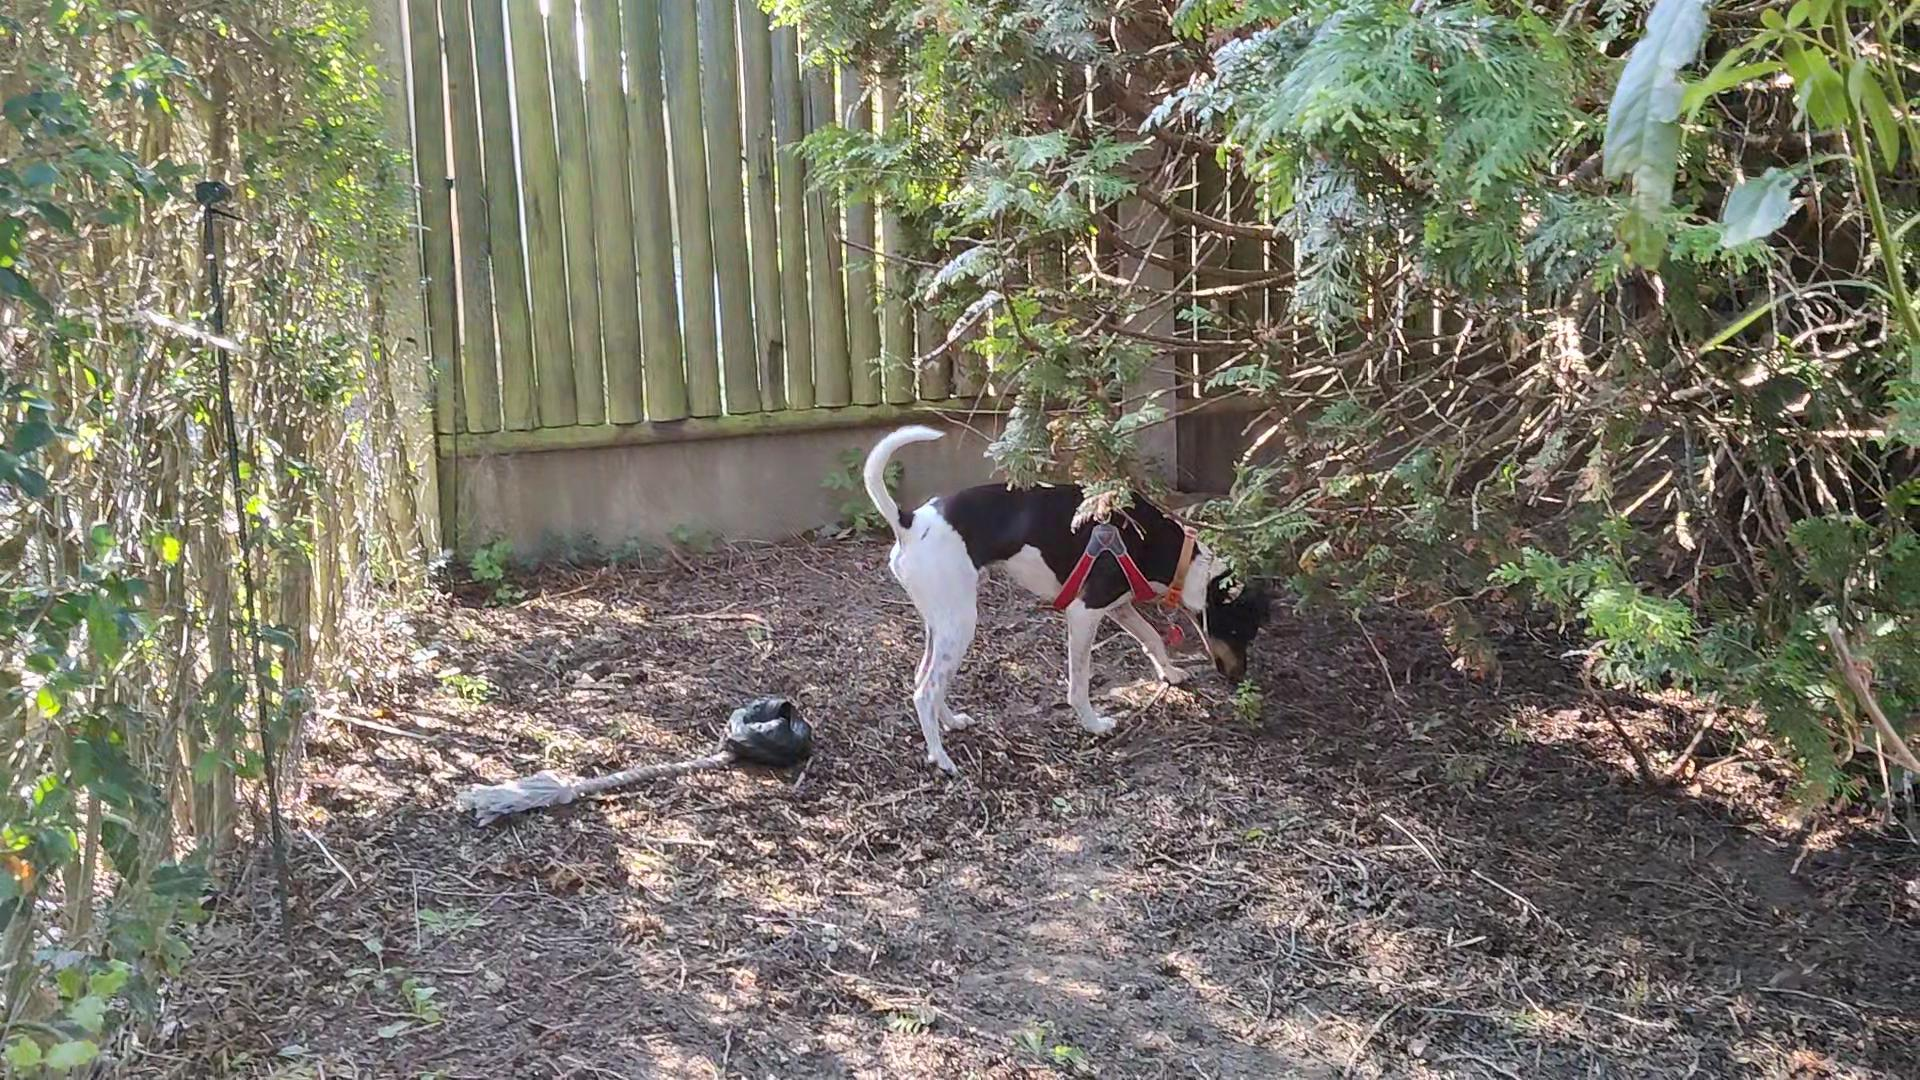Dog: (851, 405, 1284, 785)
